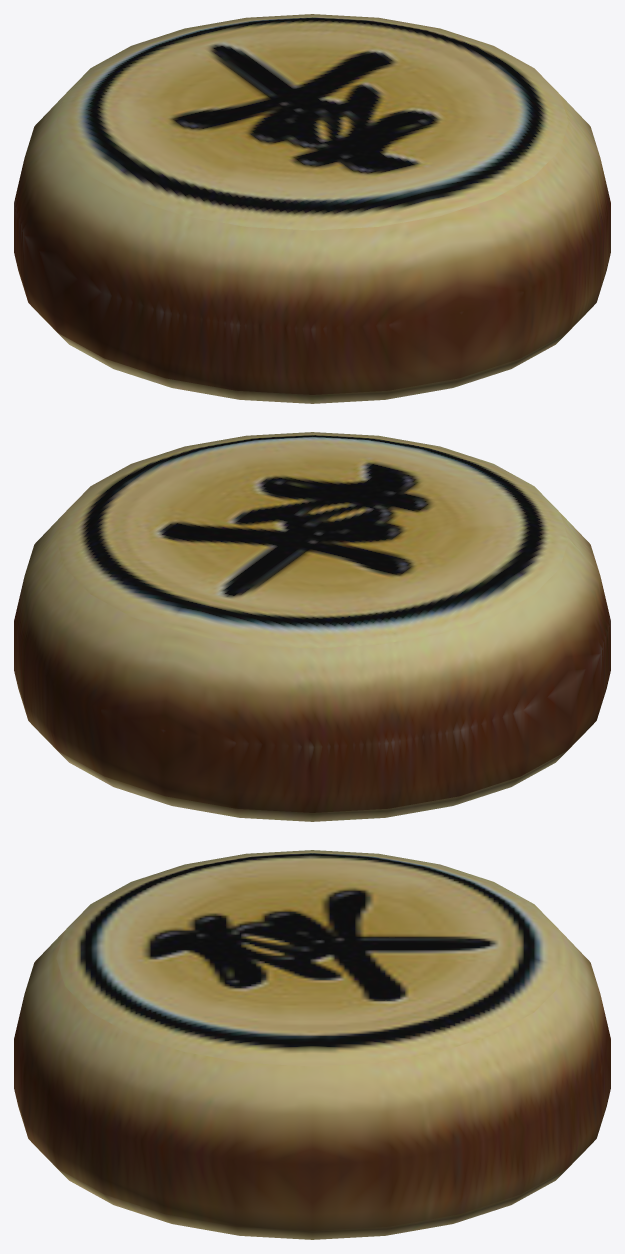
File: Black_11_soldier_1.gltf
The picture shows the model from 3 angles, top to bottom: view 1: azimuth 30°, elevation 25°; view 2: azimuth 150°, elevation 25°; view 3: azimuth 270°, elevation 25°; orthographic projection.
Visible parts, largest first — view 1: Black_11_soldier_1; view 2: Black_11_soldier_1; view 3: Black_11_soldier_1.
Part boxes in pixels (<box>): Black_11_soldier_1: <box>14,14,610,403</box>; Black_11_soldier_1: <box>14,432,610,821</box>; Black_11_soldier_1: <box>14,850,610,1239</box>.
Size of the model in its own units: 0.0468 by 0.0155 by 0.0468.
Materials: 1 (1 with a texture image).
